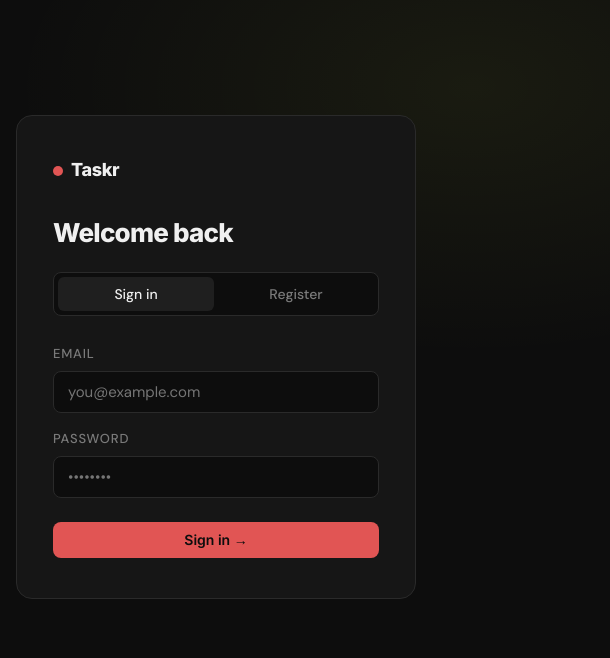
Test: LoginPage › switches to register form when clicking Register tab
Click the tab "Register".
click(296, 294)  # box 218,277 -> 374,311
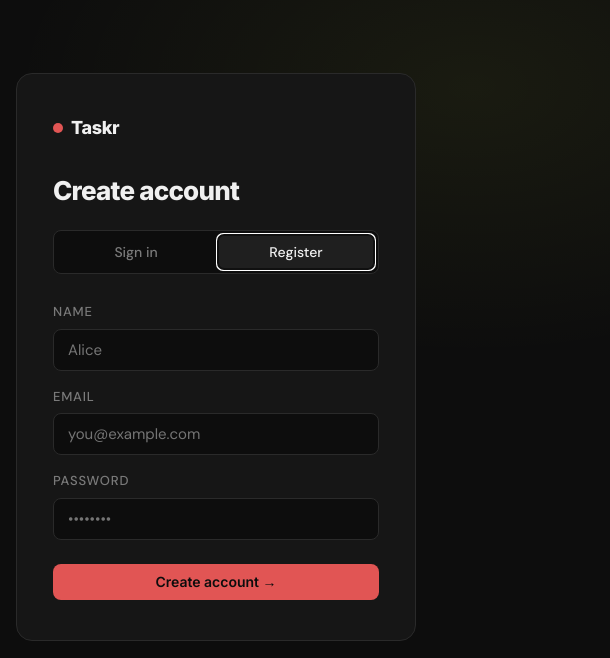
Check: the field labelled "Name" is shown, box 53,329 -> 379,371
Check: the button "Create account →" is shown, box 53,564 -> 379,600
